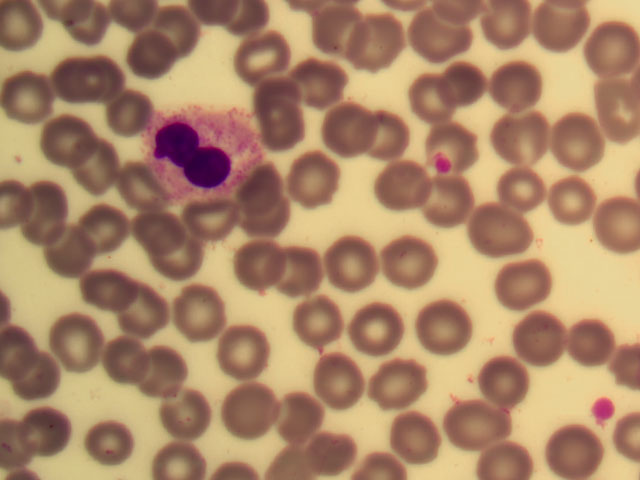Platelets: (591, 393, 617, 426), (431, 156, 455, 170)
RBC: (48, 52, 97, 103), (90, 58, 139, 109), (1, 64, 50, 115), (101, 85, 150, 136), (44, 106, 93, 157), (66, 132, 115, 183), (20, 183, 69, 234), (42, 223, 91, 274), (71, 203, 120, 254), (127, 206, 176, 257), (114, 157, 163, 208), (193, 194, 242, 245), (157, 232, 206, 283), (169, 283, 218, 334), (121, 289, 170, 340), (83, 267, 132, 318), (53, 315, 102, 366), (12, 354, 61, 405), (1, 325, 50, 376), (95, 334, 144, 385), (140, 342, 189, 393), (154, 384, 203, 435), (149, 429, 198, 480), (84, 414, 133, 465), (24, 407, 73, 458), (225, 387, 274, 438), (220, 332, 269, 383), (236, 242, 285, 293), (245, 199, 294, 250), (242, 173, 291, 224), (297, 152, 346, 203), (268, 104, 317, 155), (244, 60, 293, 111), (243, 33, 292, 84), (150, 9, 199, 60), (130, 31, 179, 82), (69, 4, 118, 55), (299, 52, 348, 103), (326, 103, 375, 154), (362, 106, 411, 157), (380, 163, 429, 214), (390, 237, 439, 288), (328, 236, 377, 287), (284, 248, 333, 299), (290, 299, 339, 350), (319, 357, 368, 408), (274, 397, 323, 448), (301, 423, 350, 474), (386, 412, 435, 463), (378, 360, 427, 411), (357, 299, 406, 350), (416, 301, 465, 352), (472, 352, 521, 403), (443, 405, 492, 456), (487, 428, 536, 479), (550, 425, 599, 476), (521, 317, 570, 368), (565, 324, 614, 375), (497, 260, 546, 311), (482, 201, 531, 252), (429, 176, 478, 227), (491, 164, 540, 215), (551, 171, 600, 222), (591, 202, 640, 253), (558, 116, 607, 167), (587, 87, 636, 138), (581, 23, 630, 74), (535, 4, 584, 55), (410, 15, 459, 66), (408, 72, 457, 123), (427, 58, 476, 109), (497, 67, 546, 118), (498, 107, 547, 158), (433, 121, 482, 172), (358, 15, 407, 66), (325, 3, 374, 54), (490, 1, 539, 51), (1, 1, 42, 46), (217, 1, 269, 30)
WBC: (147, 98, 265, 195)
